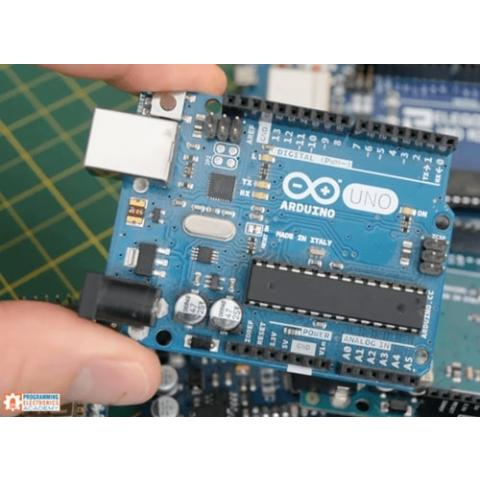Arduino-Uno: (74, 77, 460, 393)
